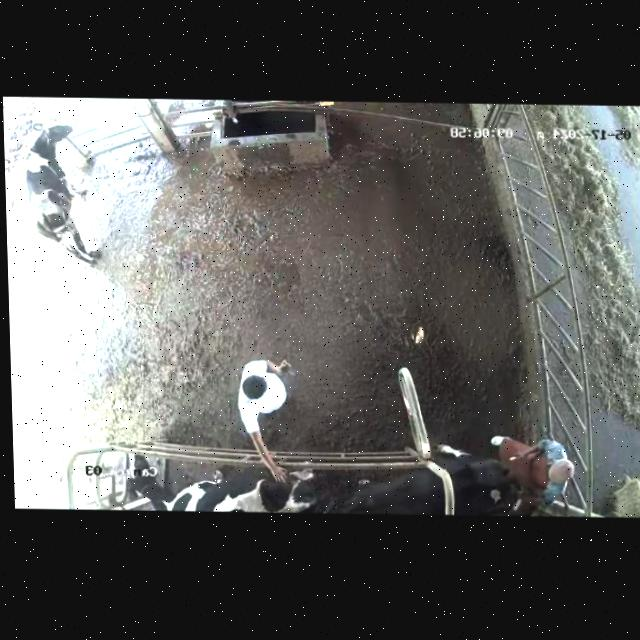stand: (10, 116, 111, 278), (111, 455, 324, 529), (324, 456, 511, 532)
